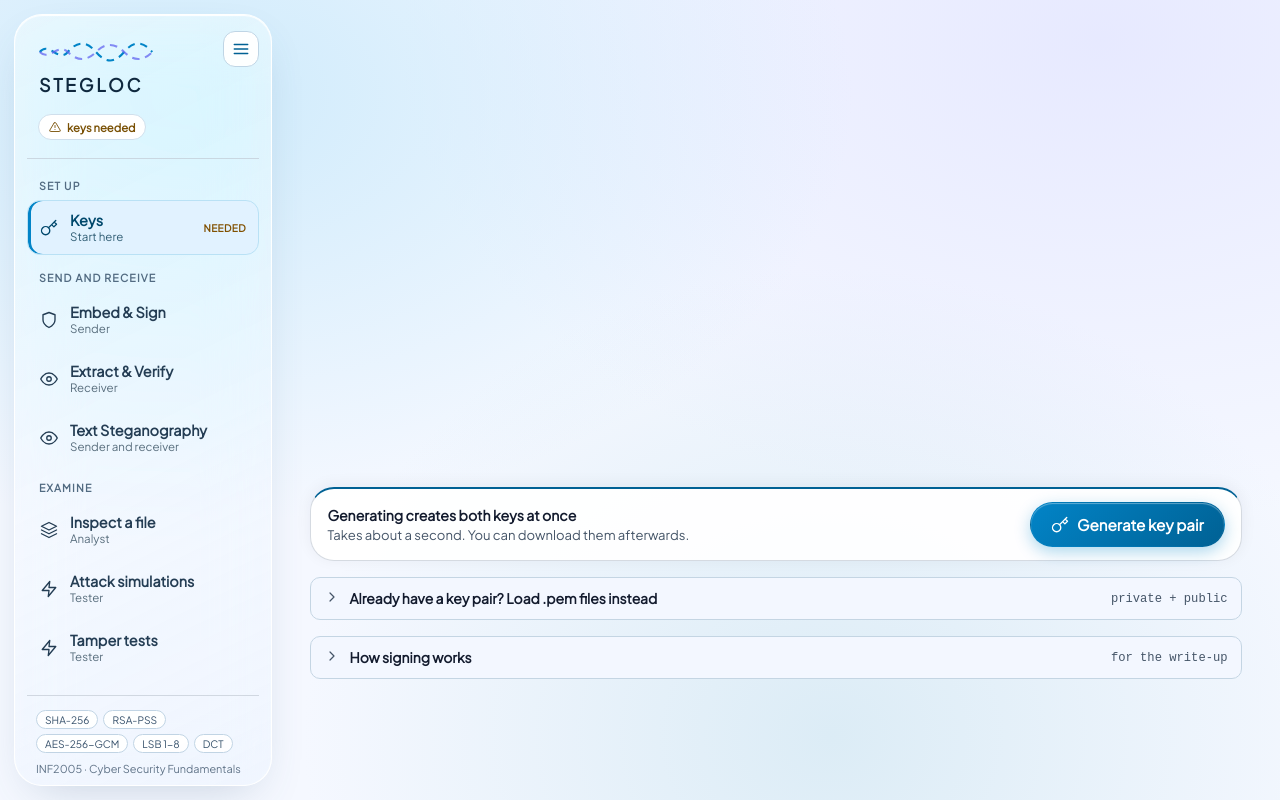
Scenario: application shell › collapses the desktop sidebar without losing named destinations or current route
The image size is (1280, 800).
Click the button named "Collapse sidebar" at (241, 49), box [223,31,259,67]
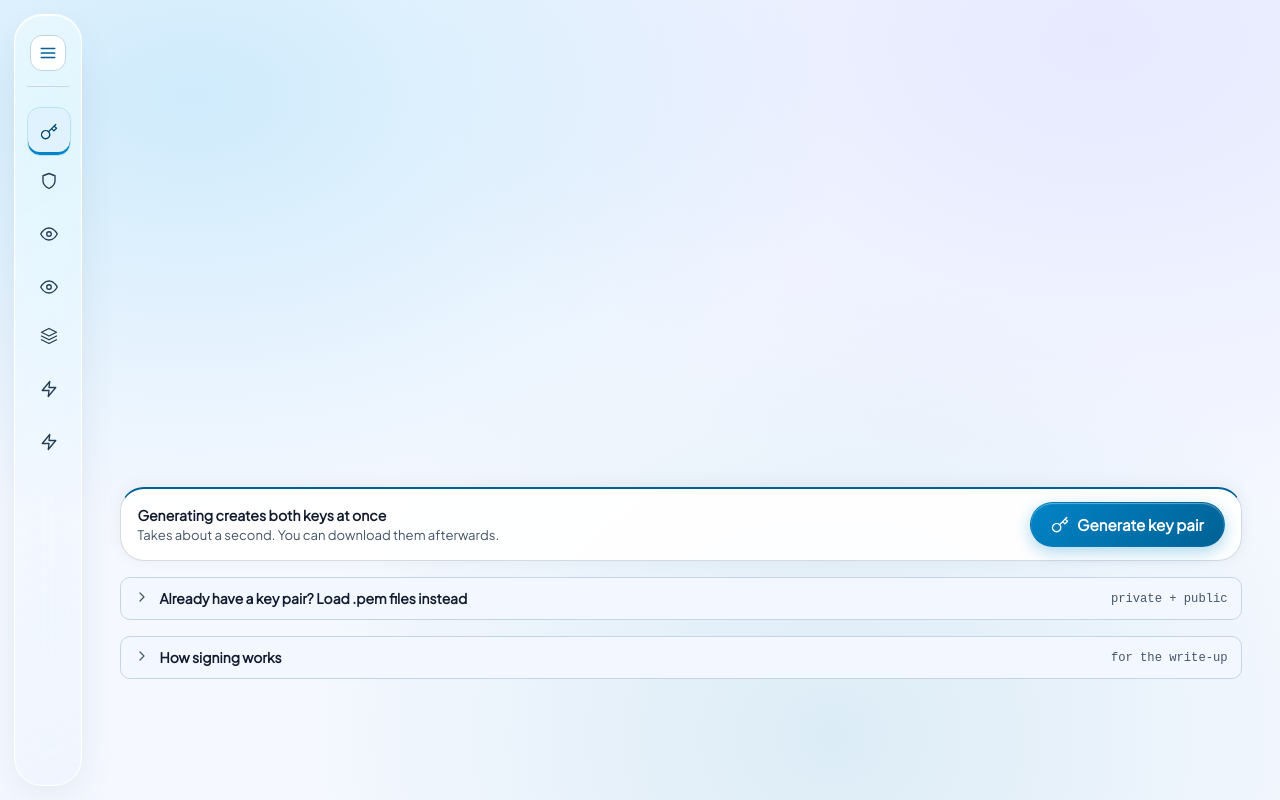
Expected: the button named "Expand sidebar" is collapsed, [30,35,66,71]
Click the link named "Inspect a file" at (49, 336), box [40,326,58,344]
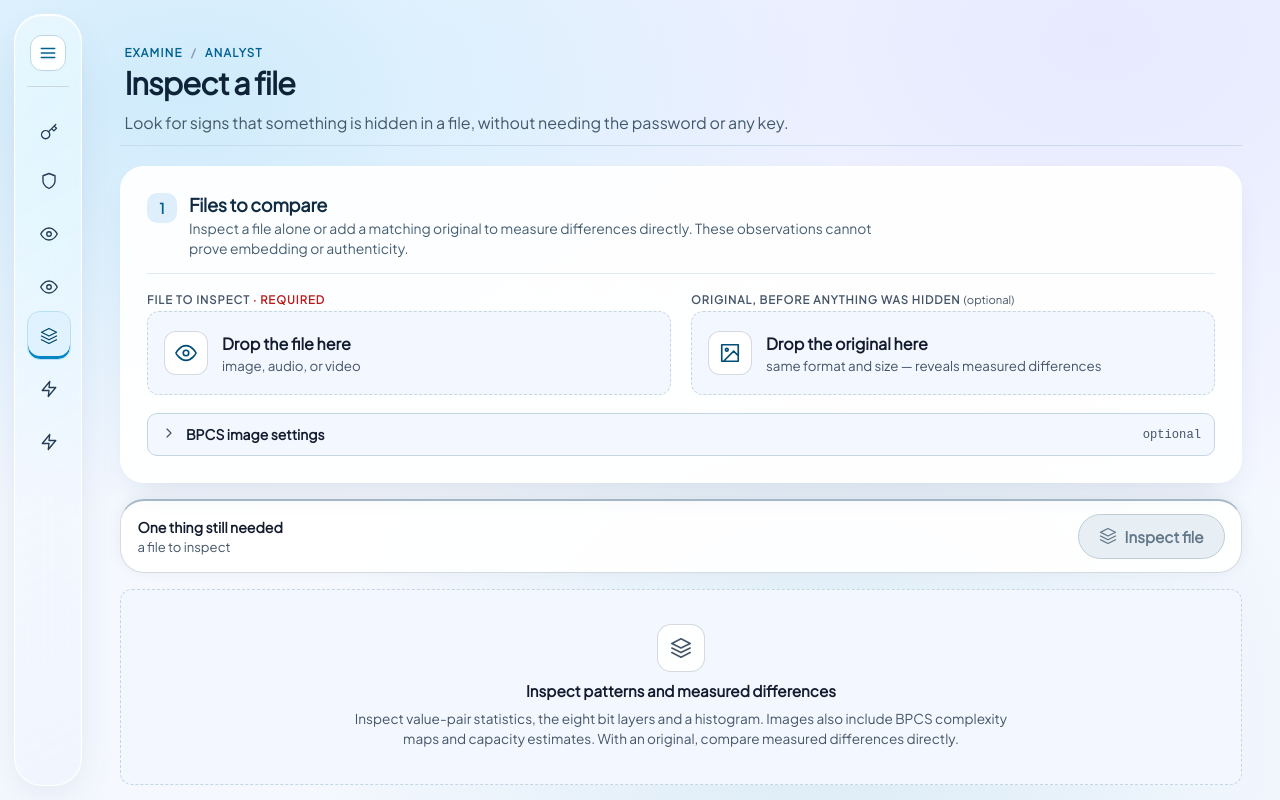
Click the button named "Expand sidebar" at (48, 53), box [30,35,66,71]
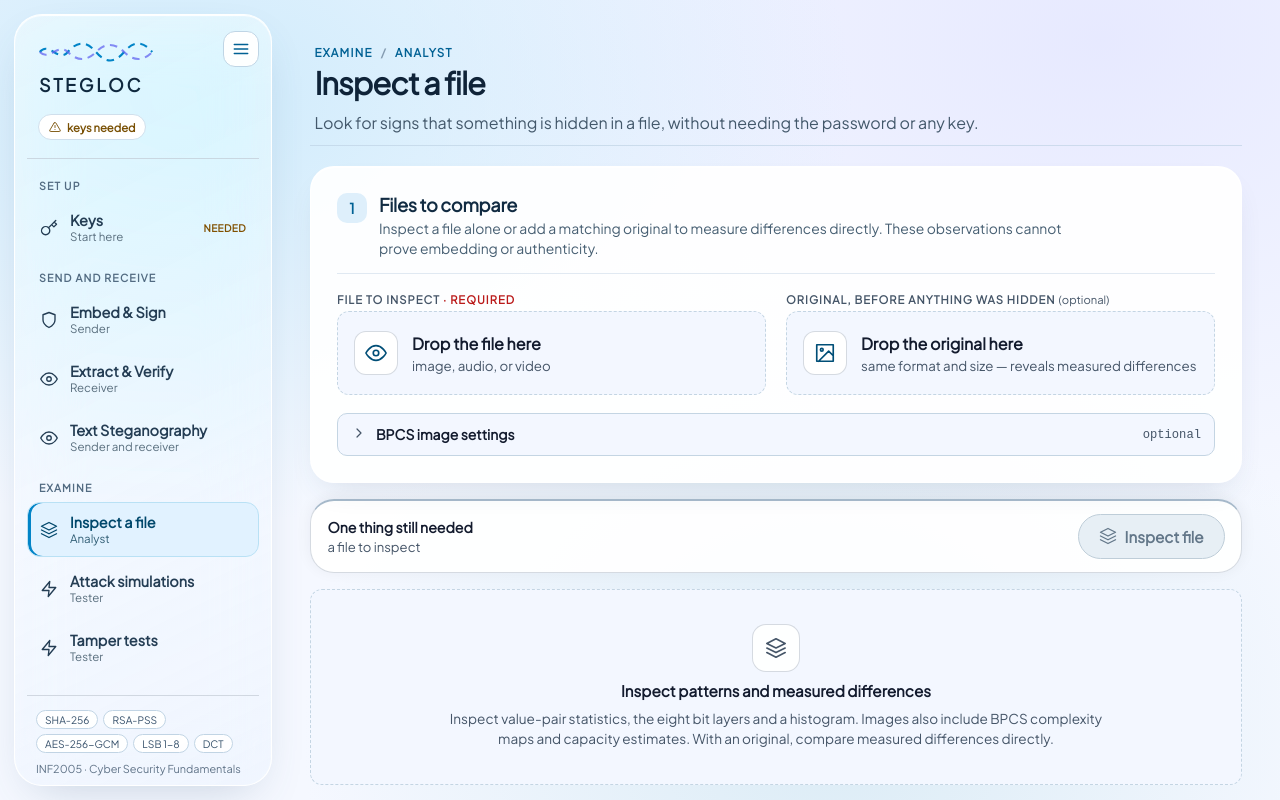
Expected: the button named "Collapse sidebar" is expanded, [223,31,259,67]
